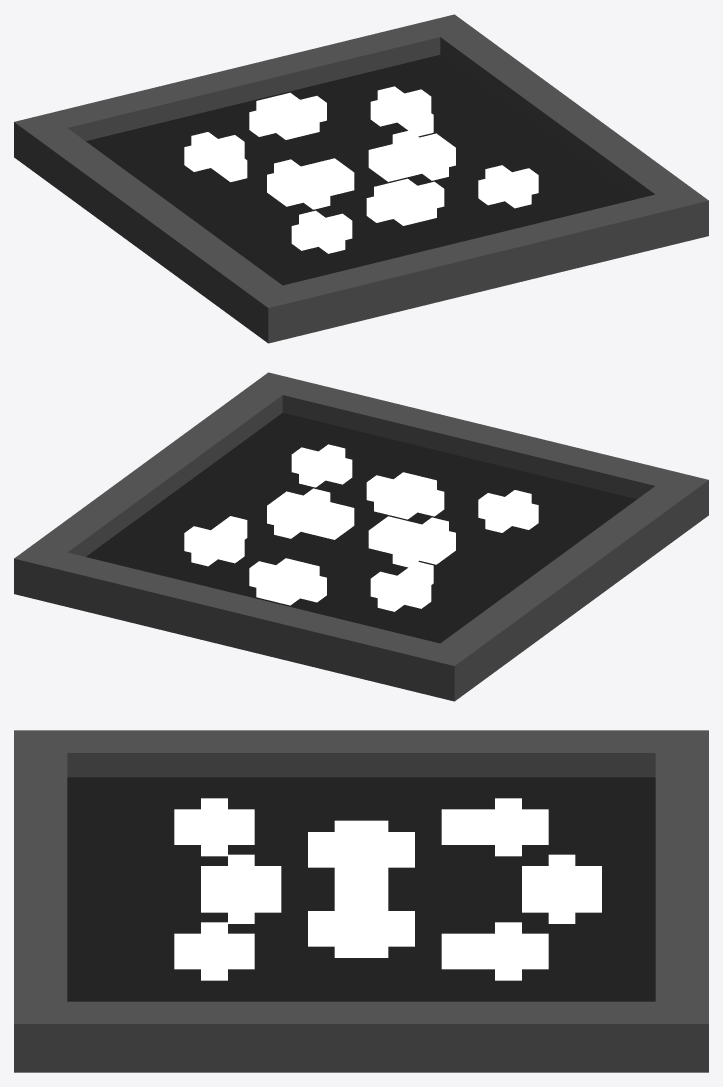
The model's file is trap_STARS_WHITE.glb.
3 views of the same model, one above another, from view 1: azimuth 30°, elevation 25°; view 2: azimuth 150°, elevation 25°; view 3: azimuth 270°, elevation 25° (orthographic). The views are drawn at different scales.
Parts seen in each view (by area): view 1: item_TRAP_STARS_WHITE; view 2: item_TRAP_STARS_WHITE; view 3: item_TRAP_STARS_WHITE.
Boxes of the visible parts, x1,y1,x2,y2 form: item_TRAP_STARS_WHITE: (14,14,708,343); item_TRAP_STARS_WHITE: (14,372,708,701); item_TRAP_STARS_WHITE: (14,730,708,1072).
Bounding box in the file's own units: 0.5909 × 0.0455 × 0.5909.
1 material, 1 textured.
